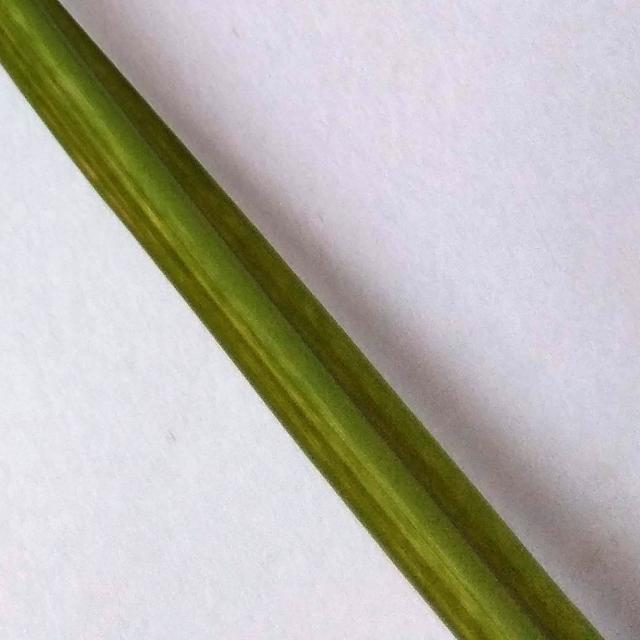Rice_Healthy: (0, 0, 603, 640)
